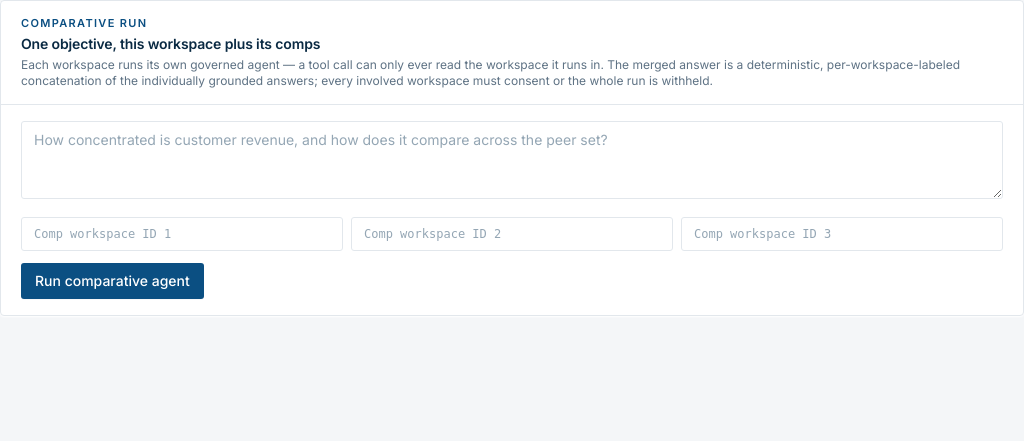
Test: AgentComparePanel › explains a not_run gating and names the blocking workspace
Replace the text in the text box with placeholder "How concentrated is customer revenue" with "How concentrated is customer revenue?": (512, 160) [21, 120, 1003, 198]
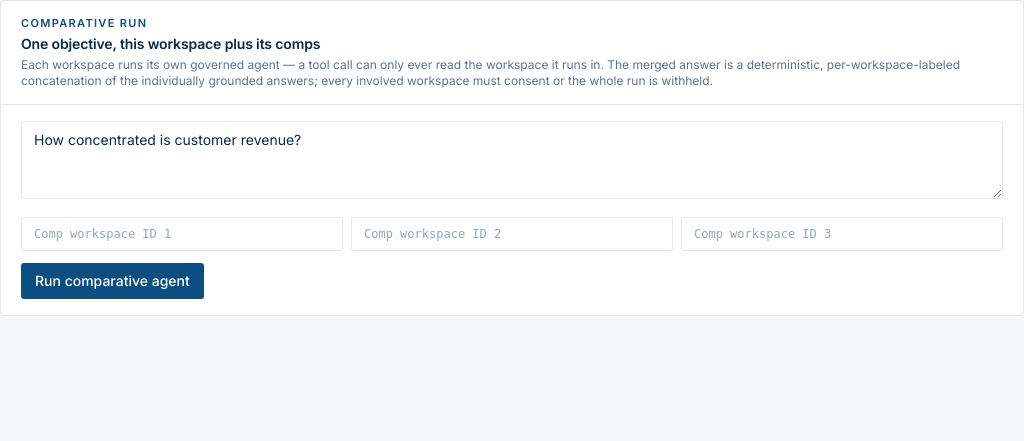
In the field with placeholder "Comp workspace ID 1": (182, 234) [21, 216, 343, 250], type "wsB"
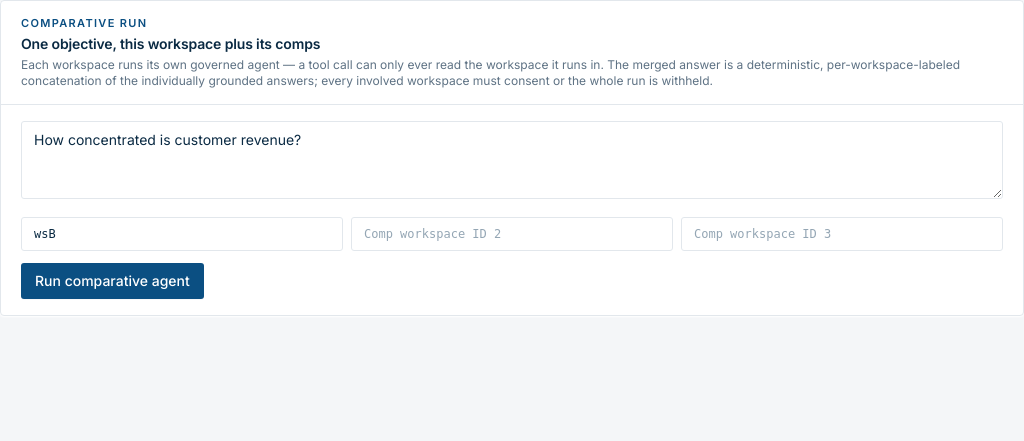
Submit the form "Run comparative agent", box [21, 120, 1003, 298]
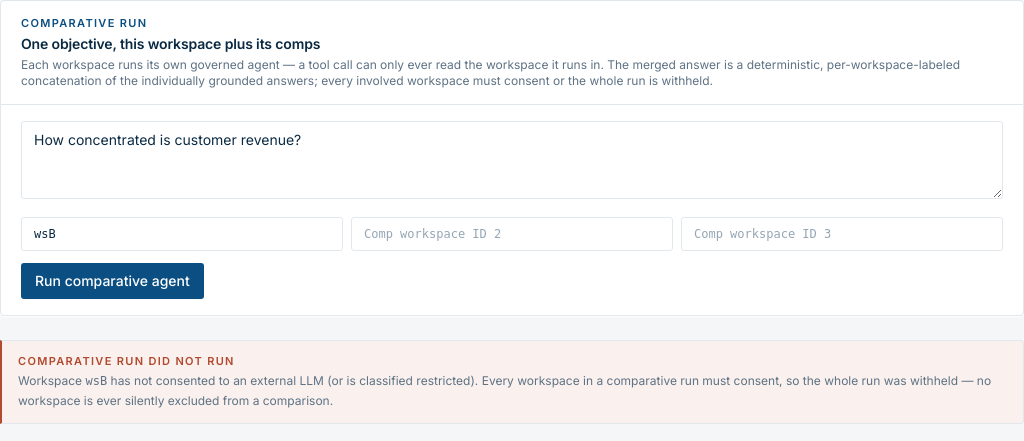
Now the text "Comparative run did not run" is shown, box [18, 354, 235, 368]
Now the text "wsB" is shown, box [86, 374, 107, 388]
Now the text "no workspace is ever silently excluded" is shown, box [18, 372, 991, 408]
